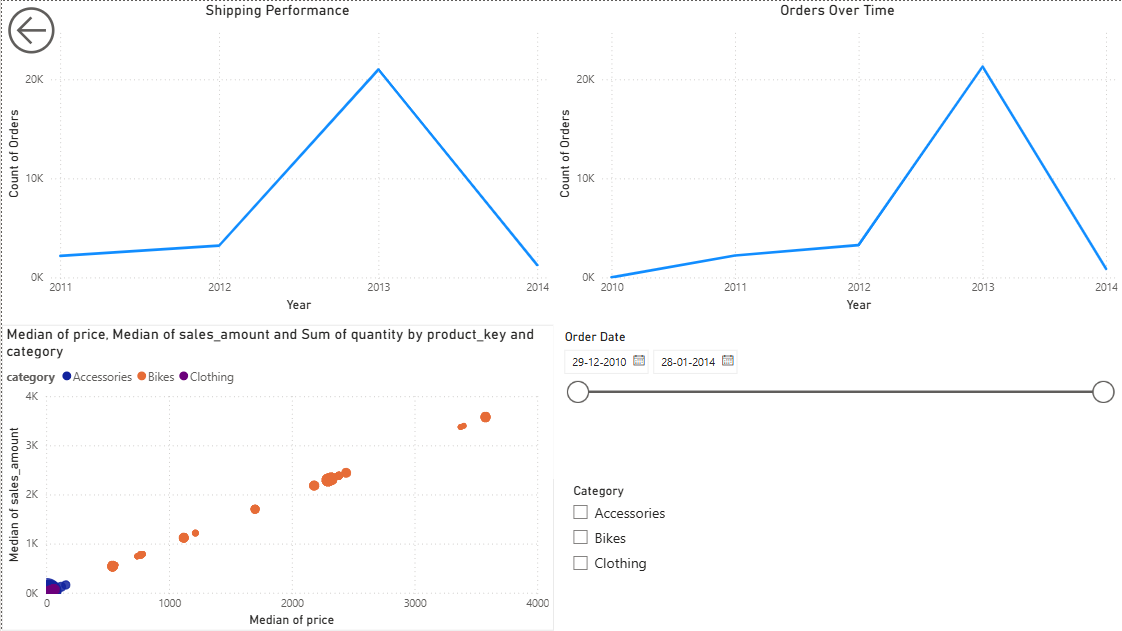

This screenshot's page, from the dashboard's own definition file:
{"tool":"powerbi","page":{"name":"Sales Operations & Order Insights","canvas":[1280,720],"ordinal":4},"visuals":[{"type":"lineChart","title":"Shipping Performance","fields":{"Category":["gold fact_sales.shipping_date.Variation.Date Hierarchy.Year","gold fact_sales.shipping_date.Variation.Date Hierarchy.Quarter","gold fact_sales.shipping_date.Variation.Date Hierarchy.Month","gold fact_sales.shipping_date.Variation.Date Hierarchy.Day"],"Y":["Count(gold fact_sales.order_number)"]},"box":[0,0,630,360],"z":0},{"type":"lineChart","title":"Orders Over Time","fields":{"Category":["gold fact_sales.order_date.Variation.Date Hierarchy.Year","gold fact_sales.order_date.Variation.Date Hierarchy.Quarter","gold fact_sales.order_date.Variation.Date Hierarchy.Month","gold fact_sales.order_date.Variation.Date Hierarchy.Day"],"Y":["Count(gold fact_sales.order_number)"]},"box":[630,0,650,360],"z":1000},{"type":"scatterChart","fields":{"Y":["Median(gold fact_sales.sales_amount)"],"X":["Median(gold fact_sales.price)"],"Category":["gold dim_products.product_key"],"Series":["gold dim_products.category"],"Size":["Sum(gold fact_sales.quantity)"]},"box":[0,370,630,350],"z":2000},{"type":"slicer","fields":{"Values":["gold fact_sales.order_date"]},"box":[630,370,650,175.7],"z":2001},{"type":"slicer","fields":{"Values":["gold dim_products.category"]},"box":[640,545.7,630,174.3],"z":2002},{"type":"actionButton","box":[0,0,100,67.1],"z":2003}]}

Visuals, with their boxes in screenshot pixels (x1, y1, x2, y2), scaled from the page's 1280x720 canvas onto the 1122x631 screenshot:
"Shipping Performance" lineChart: <region>0, 0, 552, 316</region>
"Orders Over Time" lineChart: <region>552, 0, 1121, 316</region>
scatterChart - Median(gold fact_sales.sales_amount) x Median(gold fact_sales.price): <region>0, 324, 552, 630</region>
slicer - gold fact_sales.order_date: <region>552, 324, 1121, 478</region>
slicer - gold dim_products.category: <region>561, 478, 1113, 630</region>
actionButton: <region>0, 0, 88, 59</region>
